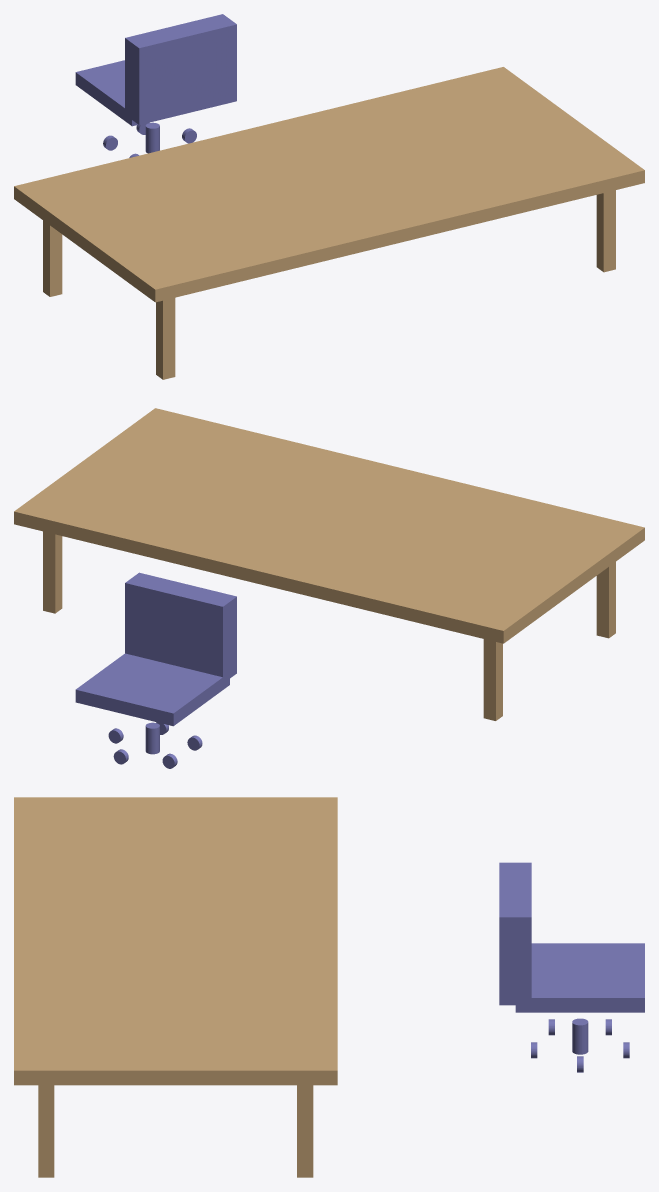
The model's file is desk_chair_combo.glb.
3 renders of one model, top to bottom at view 1: azimuth 30°, elevation 25°; view 2: azimuth 150°, elevation 25°; view 3: azimuth 270°, elevation 25°, orthographic. The views are drawn at different scales.
Visible parts, largest first — view 1: DeskTop, ChairBack, ChairSeat, DeskLeg_4, DeskLeg_3, DeskLeg_2; view 2: DeskTop, ChairBack, ChairSeat, DeskLeg_2, DeskLeg_1, DeskLeg_4; view 3: DeskTop, ChairSeat, ChairBack, DeskLeg_1, DeskLeg_3, ChairBase.
Boxes of the visible parts, bbox=[...] form: DeskTop: bbox=[14, 67, 644, 302]; ChairBack: bbox=[125, 14, 236, 124]; ChairSeat: bbox=[75, 60, 138, 126]; DeskLeg_4: bbox=[156, 298, 175, 379]; DeskLeg_3: bbox=[596, 190, 615, 272]; DeskLeg_2: bbox=[43, 220, 62, 296]; DeskTop: bbox=[14, 408, 644, 643]; ChairBack: bbox=[125, 572, 236, 682]; ChairSeat: bbox=[75, 653, 229, 726]; DeskLeg_2: bbox=[483, 639, 502, 720]; DeskLeg_1: bbox=[43, 531, 62, 613]; DeskLeg_4: bbox=[596, 562, 615, 638]; DeskTop: bbox=[14, 797, 337, 1085]; ChairSeat: bbox=[515, 943, 644, 1012]; ChairBack: bbox=[499, 862, 531, 1005]; DeskLeg_1: bbox=[297, 1085, 313, 1177]; DeskLeg_3: bbox=[38, 1085, 54, 1177]; ChairBase: bbox=[572, 1018, 588, 1054].
Size of the model in its own units: 4 by 1.1 by 3.9.
